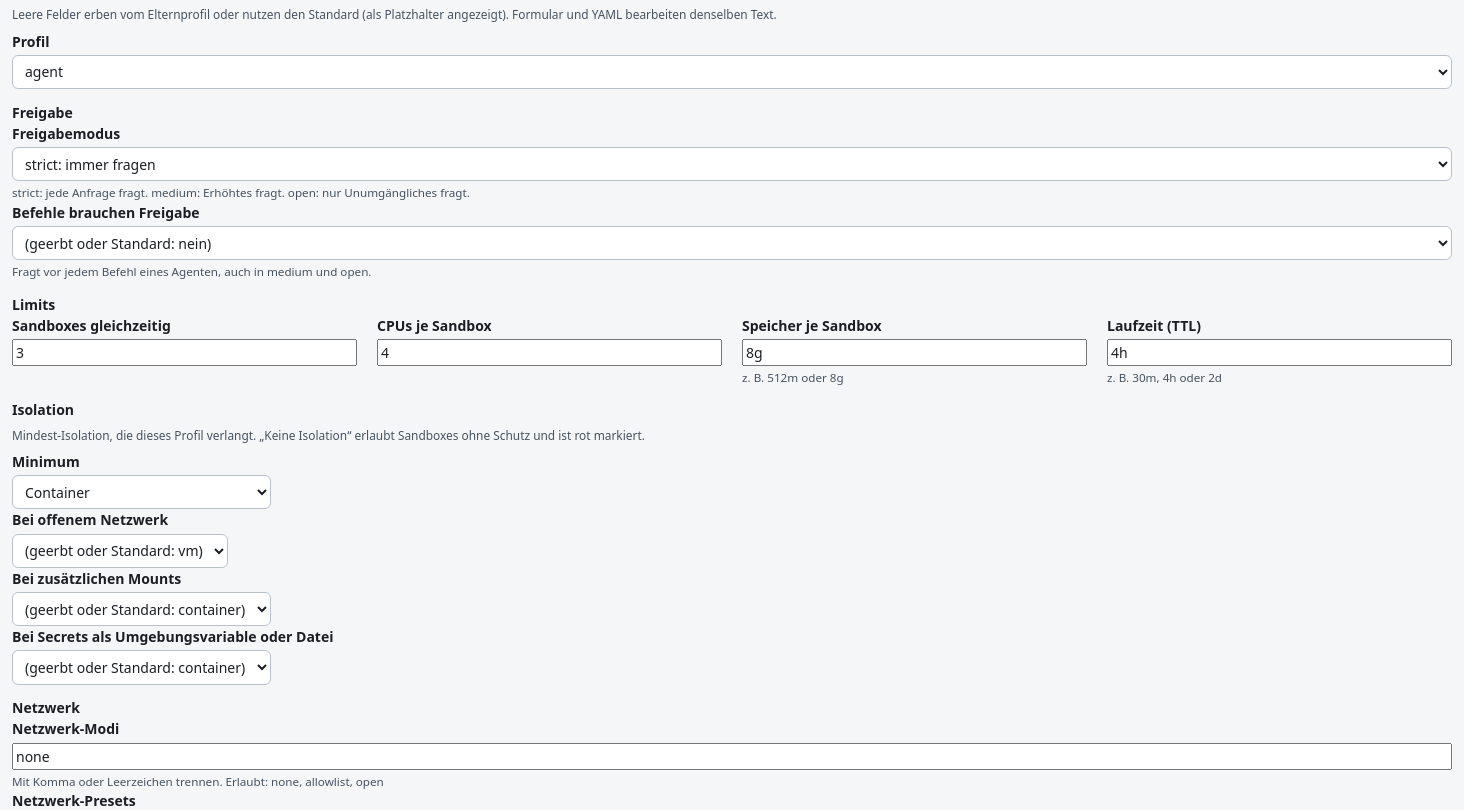
Scenario: PolicyForm › edits lists as words and shows the inherited value as a placeholder
Type "none allowlist" into the field labelled "Netzwerk-Modi" at (732, 756), box x1=12 y1=742 x2=1452 y2=770
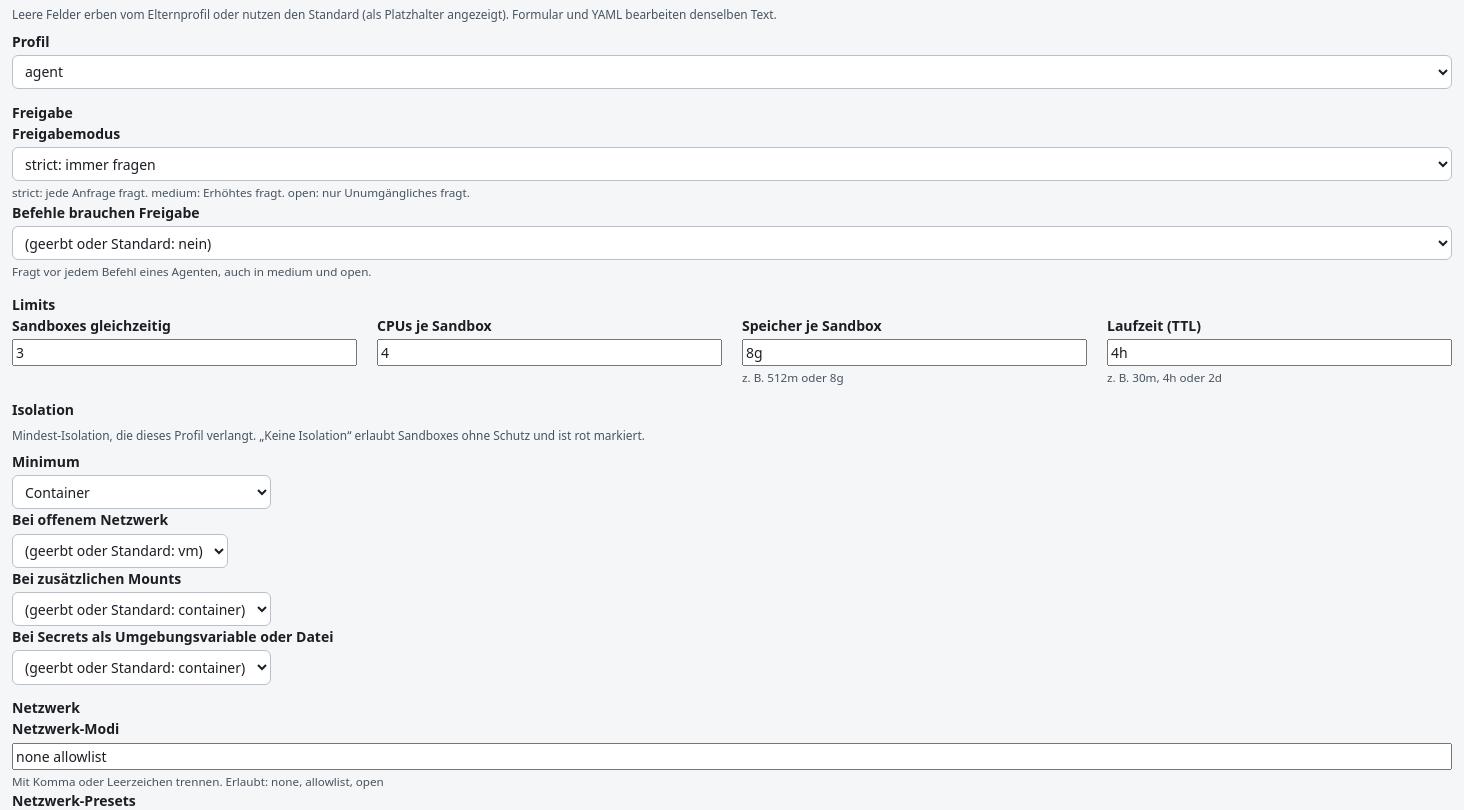
the profile "child" inherits everything: the fields are empty, the placeholder shows what applies
Select "child" in the dropdown labelled "Profil" at (732, 72), box x1=12 y1=55 x2=1452 y2=89
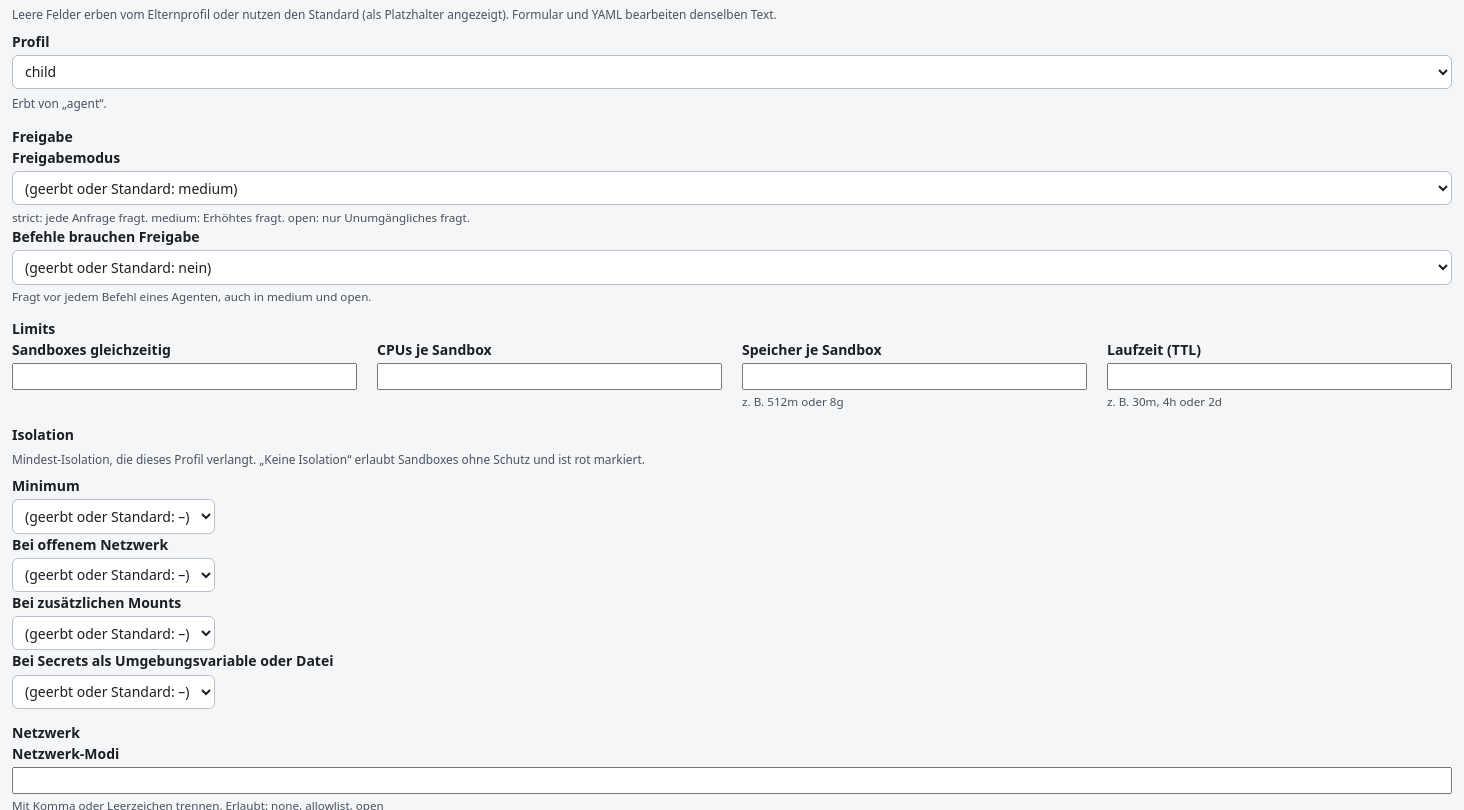
Check: the field labelled "Speicher je Sandbox" is empty, box x1=742 y1=363 x2=1087 y2=390
Check: the dropdown labelled "Freigabemodus" shows "(geerbt oder Standard: medium)", box x1=12 y1=171 x2=1452 y2=206
